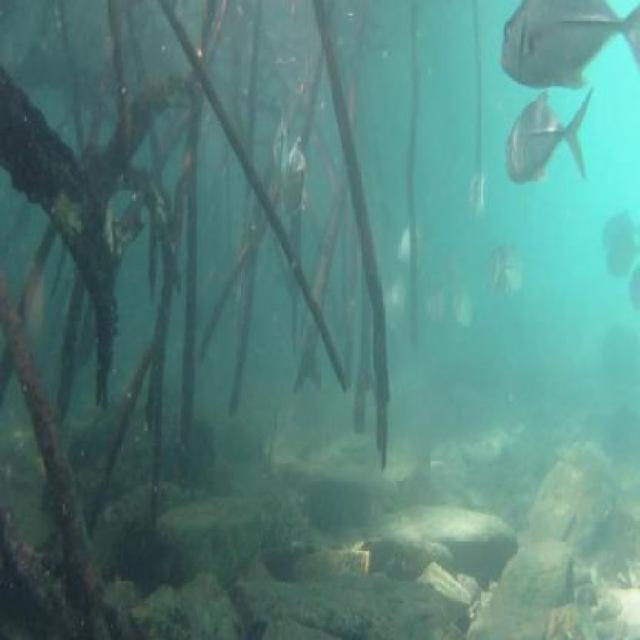Caranx_sexfasciatus_juvenile: (495, 0, 640, 97), (504, 84, 588, 205), (278, 134, 314, 226), (482, 238, 533, 302), (378, 273, 413, 344), (464, 159, 498, 227), (393, 211, 429, 271), (598, 198, 638, 252), (597, 232, 640, 282), (446, 278, 472, 342), (266, 110, 292, 165), (424, 283, 451, 334)
